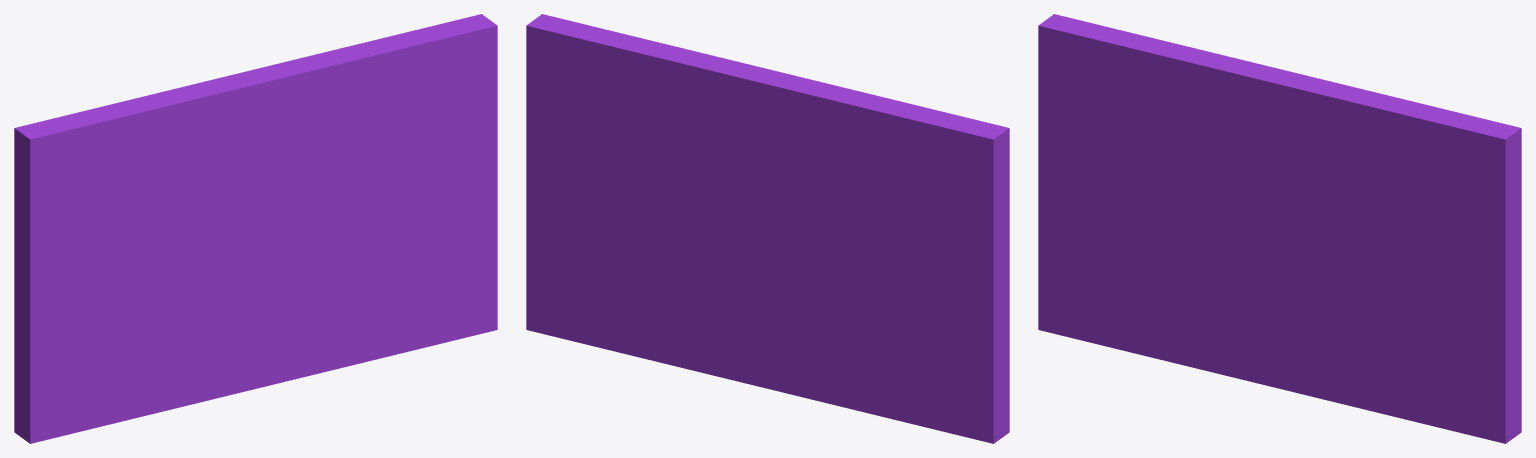
The model's file is Barrier_107_chunks.fbx.
The picture shows the model from 3 angles, left to right: view 1: azimuth 30°, elevation 25°; view 2: azimuth 150°, elevation 25°; view 3: azimuth 330°, elevation 25°; orthographic projection.
Parts seen in each view (by area): view 1: Barrier_107_2, Barrier_107_1, Barrier_107_3, Barrier_107_6, Barrier_107_5, Barrier_107_0, Barrier_107_4; view 2: Barrier_107_2, Barrier_107_0, Barrier_107_6, Barrier_107_1, Barrier_107_4, Barrier_107_3, Barrier_107_5; view 3: Barrier_107_2, Barrier_107_1, Barrier_107_3, Barrier_107_6, Barrier_107_5, Barrier_107_0, Barrier_107_4.
Boxes of the visible parts, x1=… form: Barrier_107_2: x1=272, y1=14, x2=497, y2=369; Barrier_107_1: x1=17, y1=229, x2=332, y2=443; Barrier_107_3: x1=14, y1=98, x2=203, y2=204; Barrier_107_6: x1=137, y1=40, x2=400, y2=160; Barrier_107_5: x1=175, y1=94, x2=368, y2=244; Barrier_107_0: x1=14, y1=197, x2=181, y2=433; Barrier_107_4: x1=14, y1=154, x2=179, y2=244; Barrier_107_2: x1=526, y1=14, x2=754, y2=374; Barrier_107_0: x1=751, y1=208, x2=1009, y2=443; Barrier_107_6: x1=634, y1=37, x2=871, y2=182; Barrier_107_1: x1=710, y1=279, x2=1009, y2=441; Barrier_107_4: x1=824, y1=155, x2=1009, y2=224; Barrier_107_3: x1=851, y1=89, x2=1009, y2=192; Barrier_107_5: x1=688, y1=128, x2=826, y2=220; Barrier_107_2: x1=1280, y1=102, x2=1521, y2=443; Barrier_107_1: x1=1038, y1=205, x2=1341, y2=403; Barrier_107_3: x1=1038, y1=14, x2=1211, y2=152; Barrier_107_6: x1=1177, y1=44, x2=1413, y2=145; Barrier_107_5: x1=1183, y1=131, x2=1376, y2=233; Barrier_107_0: x1=1038, y1=123, x2=1190, y2=244; Barrier_107_4: x1=1038, y1=91, x2=1187, y2=200.
Size of the model in its own units: 462 by 288 by 27.2.
